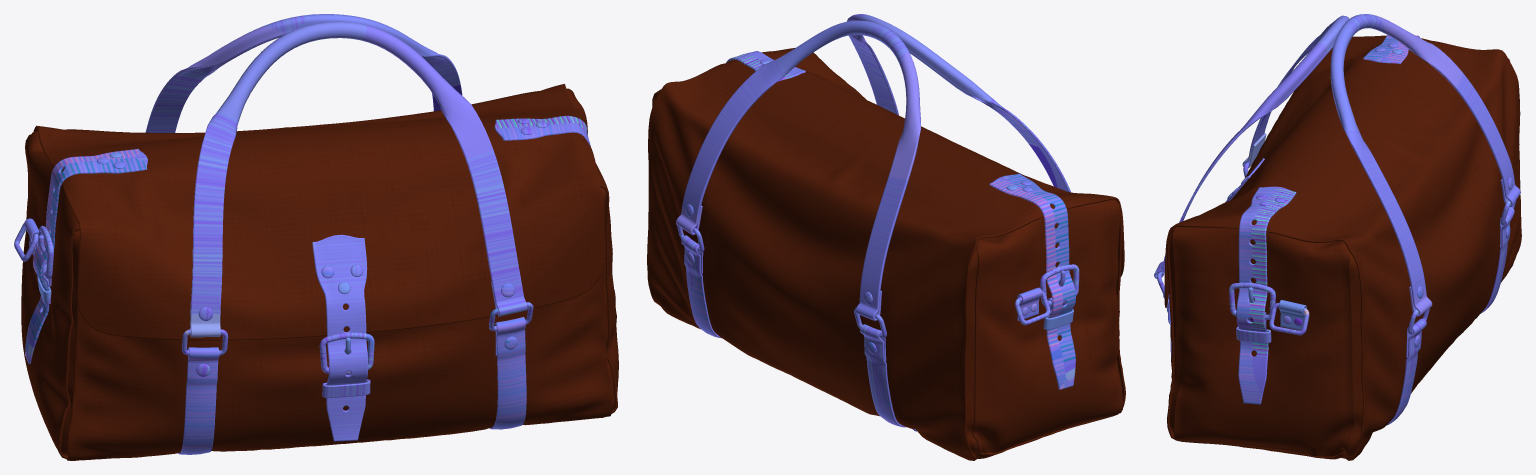
File: bag.fbx
3 renders of one model, left to right at view 1: azimuth 30°, elevation 25°; view 2: azimuth 150°, elevation 25°; view 3: azimuth 270°, elevation 25°, orthographic. The views are drawn at different scales.
Parts seen in each view (by area): view 1: Object_8, Object_10, Object_9; view 2: Object_8, Object_10, Object_9; view 3: Object_8, Object_10, Object_9.
Part boxes in pixels (left/top/right/bottom): Object_8: left=21, top=84, right=618, bottom=460; Object_10: left=24, top=14, right=590, bottom=454; Object_9: left=14, top=118, right=548, bottom=376; Object_8: left=647, top=47, right=1125, bottom=460; Object_10: left=676, top=14, right=1075, bottom=431; Object_9: left=677, top=59, right=1079, bottom=354; Object_8: left=1164, top=35, right=1521, bottom=460; Object_10: left=1154, top=14, right=1520, bottom=425; Object_9: left=1156, top=42, right=1516, bottom=347.
Size of the model in its own units: 64.01 by 44.19 by 43.9.
3 materials, 3 textured.
